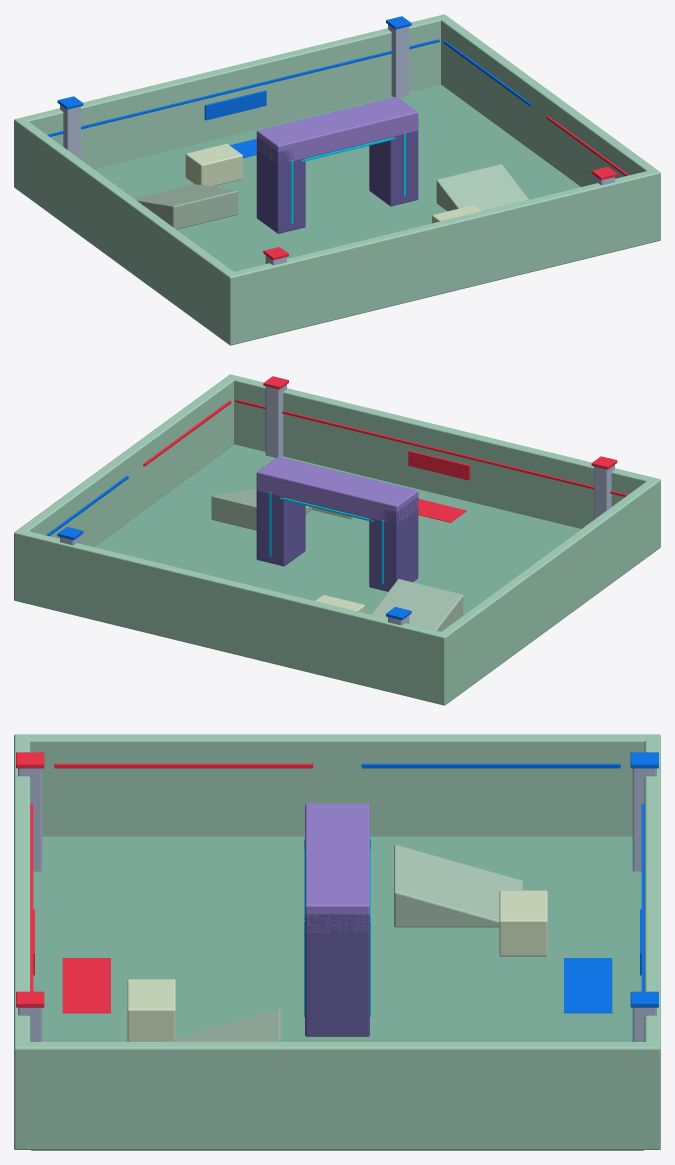
File: Portao.glb
3 views of the same model, one above another, from view 1: azimuth 30°, elevation 25°; view 2: azimuth 150°, elevation 25°; view 3: azimuth 270°, elevation 25° (orthographic). The views are drawn at different scales.
Visible parts, largest first — view 1: Portao_PB_a8d8c0, Portao_PB_83bca5, Portao_PB_6a62a8, Portao_PB_accbb8, Portao_PB_9c86d9, Portao_PB_087bff, Portao_PB_d8e9ca, Portao_PB_b5c6df, Portao_PB_ff304b, Portao_PB_00d9ff; view 2: Portao_PB_a8d8c0, Portao_PB_83bca5, Portao_PB_6a62a8, Portao_PB_9c86d9, Portao_PB_accbb8, Portao_PB_ff304b, Portao_PB_b5c6df, Portao_PB_087bff, Portao_PB_00d9ff, Portao_PB_d8e9ca; view 3: Portao_PB_a8d8c0, Portao_PB_83bca5, Portao_PB_accbb8, Portao_PB_6a62a8, Portao_PB_9c86d9, Portao_PB_d8e9ca, Portao_PB_087bff, Portao_PB_ff304b, Portao_PB_b5c6df.
Part boxes in pixels (x1,y1,x2,y2): Portao_PB_a8d8c0: (14, 14, 660, 345); Portao_PB_83bca5: (94, 84, 580, 271); Portao_PB_6a62a8: (256, 118, 418, 233); Portao_PB_accbb8: (134, 164, 528, 229); Portao_PB_9c86d9: (256, 96, 418, 164); Portao_PB_087bff: (47, 16, 531, 158); Portao_PB_d8e9ca: (185, 143, 481, 223); Portao_PB_b5c6df: (60, 24, 614, 265); Portao_PB_ff304b: (263, 116, 628, 260); Portao_PB_00d9ff: (291, 132, 405, 223); Portao_PB_a8d8c0: (14, 374, 660, 705); Portao_PB_83bca5: (94, 444, 580, 614); Portao_PB_6a62a8: (256, 478, 418, 591); Portao_PB_9c86d9: (256, 456, 418, 523); Portao_PB_accbb8: (211, 488, 463, 631); Portao_PB_ff304b: (143, 376, 627, 522); Portao_PB_b5c6df: (60, 384, 614, 625); Portao_PB_087bff: (46, 476, 411, 620); Portao_PB_00d9ff: (269, 492, 383, 583); Portao_PB_d8e9ca: (312, 507, 364, 612); Portao_PB_a8d8c0: (14, 734, 660, 1149); Portao_PB_83bca5: (31, 836, 643, 1150); Portao_PB_accbb8: (166, 844, 522, 1041); Portao_PB_6a62a8: (305, 914, 369, 1036); Portao_PB_9c86d9: (305, 803, 369, 933); Portao_PB_d8e9ca: (127, 890, 547, 1041); Portao_PB_087bff: (361, 752, 658, 1013); Portao_PB_ff304b: (16, 752, 313, 1013); Portao_PB_b5c6df: (18, 768, 656, 1041).
Bounding box in the file's own units: 25.76 × 5.6 × 22.4.
